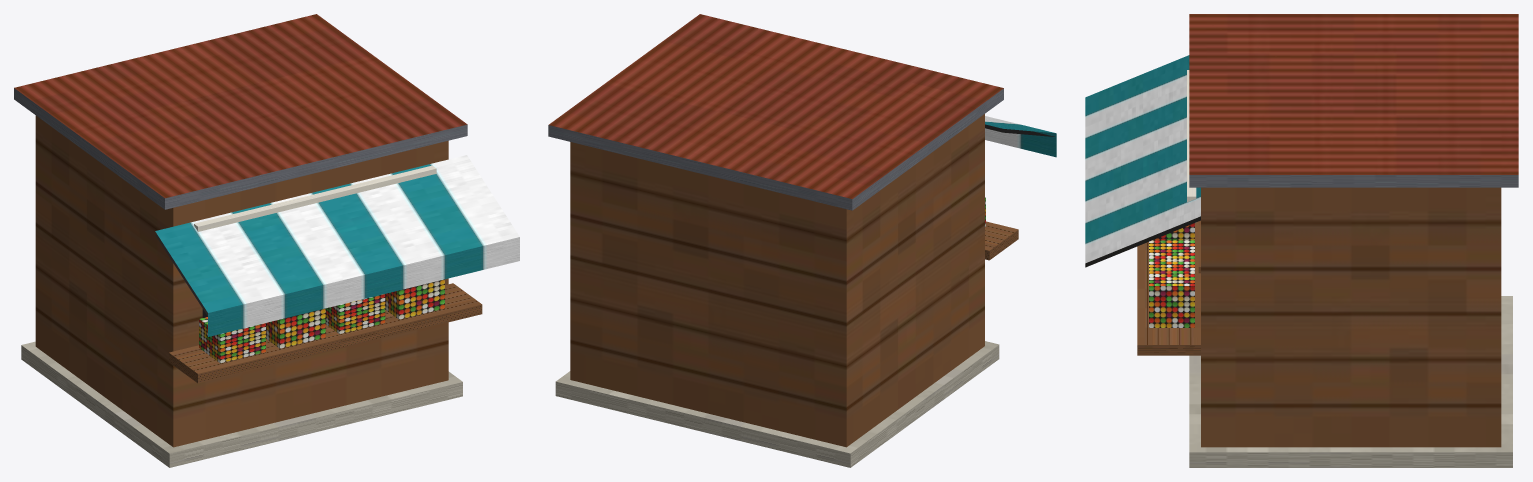
Rendered from kiosk-teal-far.glb.
3 renders of one model, left to right at view 1: azimuth 30°, elevation 25°; view 2: azimuth 150°, elevation 25°; view 3: azimuth 270°, elevation 25°, orthographic. The views are drawn at different scales.
Visible parts, largest first — view 1: kiosk-teal; view 2: kiosk-teal; view 3: kiosk-teal.
Boxes of the visible parts, <box> form: kiosk-teal: <box>14,14,519,467</box>; kiosk-teal: <box>548,14,1056,467</box>; kiosk-teal: <box>1085,14,1518,467</box>.
Size of the model in its own units: 3.4 by 2.82 by 3.75.
1 material, 1 textured.
